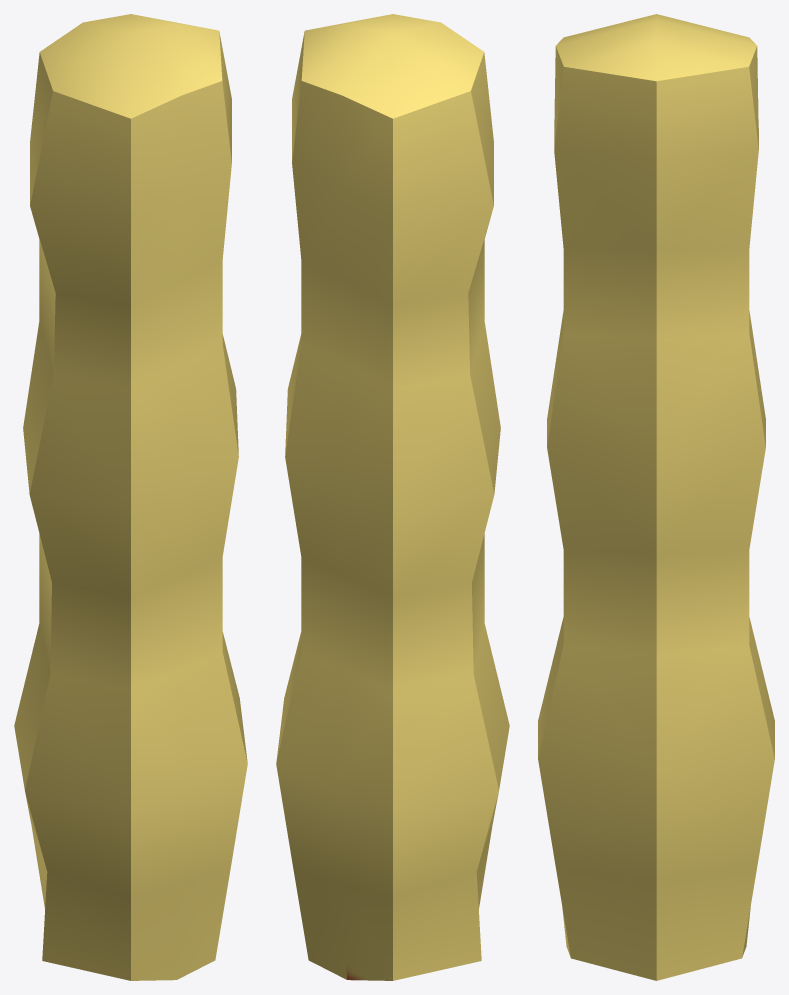
File: fryy.fbx
The picture shows the model from 3 angles, left to right: view 1: azimuth 30°, elevation 25°; view 2: azimuth 150°, elevation 25°; view 3: azimuth 270°, elevation 25°; orthographic projection.
Parts seen in each view (by area): view 1: fry_2; view 2: fry_2; view 3: fry_2.
Part boxes in pixels (left/top/right/bottom): fry_2: left=14, top=14, right=247, bottom=980; fry_2: left=276, top=14, right=509, bottom=980; fry_2: left=538, top=14, right=774, bottom=980.
Size of what is drawn, in the model's own units: 45.67 by 42.99 by 188.
